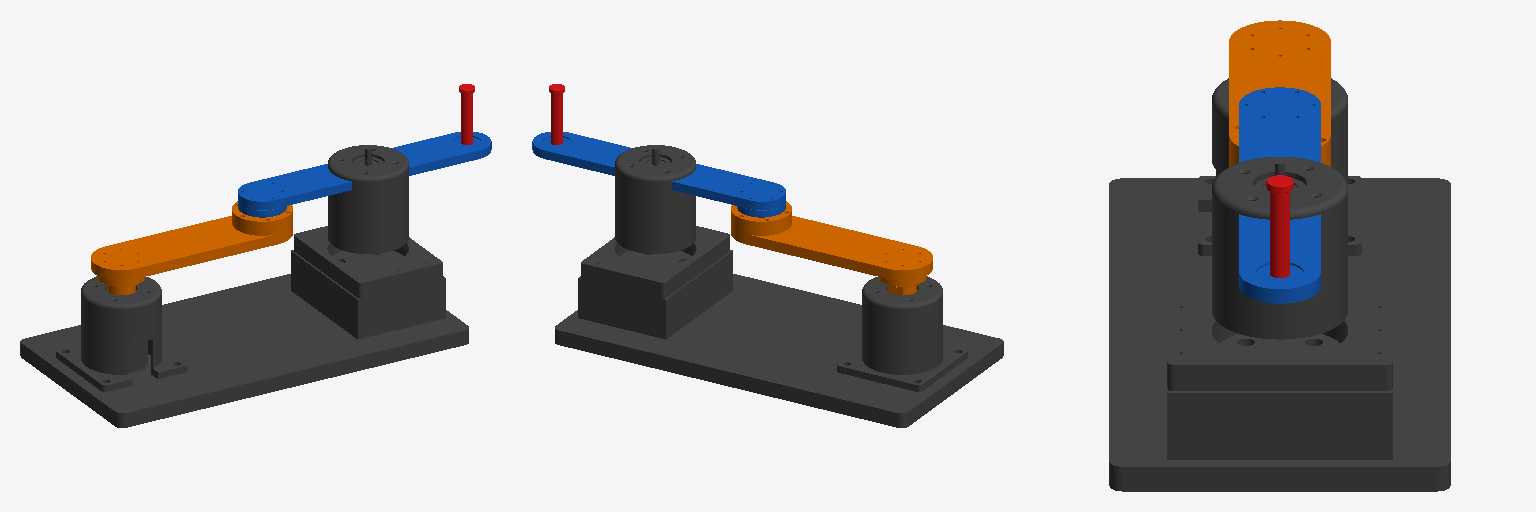
URDF robot description (arm):
<?xml version="1.0" ?>
<!-- =================================================================================== -->
<!-- |    This document was autogenerated by xacro from arm.urdf.xacro                 | -->
<!-- |    EDITING THIS FILE BY HAND IS NOT RECOMMENDED                                 | -->
<!-- =================================================================================== -->
<robot name="arm">
  <link name="base_link">
    <visual>
      <origin rpy="0 0 0" xyz="0 0 0"/>
      <geometry>
        <mesh filename="package://arm_hardware_interface/meshes/visual/base_assembly.stl" scale="0.001 0.001 0.001"/>
      </geometry>
      <material name="dark_grey">
        <color rgba="0.3 0.3 0.3 1.0"/>
      </material>
    </visual>
    <collision>
      <origin rpy="0 0 0" xyz="0 0 0"/>
      <geometry>
        <mesh filename="package://arm_hardware_interface/meshes/visual/base_assembly.stl" scale="0.001 0.001 0.001"/>
      </geometry>
    </collision>
    <inertial>
      <mass value="1.0"/>
      <origin xyz="0 0 0"/>
      <inertia ixx="0.01" ixy="0" ixz="0" iyy="0.01" iyz="0" izz="0.01"/>
    </inertial>
  </link>
  <joint name="joint_a" type="revolute">
    <parent link="base_link"/>
    <child link="link_a"/>
    <origin rpy="0 0 0" xyz="-0.175 0 0.12915"/>
    <axis xyz="0 0 1"/>
    <limit effort="10.0" lower="-3.14" upper="3.14" velocity="3.0"/>
  </joint>
  <link name="link_a">
    <visual>
      <origin rpy="0 0 0" xyz="0 0 0"/>
      <geometry>
        <mesh filename="package://arm_hardware_interface/meshes/visual/proximal_left.stl" scale="0.001 0.001 0.001"/>
      </geometry>
      <material name="orange">
        <color rgba="0.9 0.45 0.0 1.0"/>
      </material>
    </visual>
    <collision>
      <origin rpy="0 0 0" xyz="0 0 0"/>
      <geometry>
        <mesh filename="package://arm_hardware_interface/meshes/visual/proximal_left.stl" scale="0.001 0.001 0.001"/>
      </geometry>
    </collision>
    <inertial>
      <mass value="0.1"/>
      <origin xyz="0.100 0 0"/>
      <inertia ixx="0.001" ixy="0" ixz="0" iyy="0.001" iyz="0" izz="0.001"/>
    </inertial>
  </link>
  <joint name="joint_b" type="revolute">
    <parent link="base_link"/>
    <child link="link_b"/>
    <origin rpy="0 0 0" xyz="0.175 0 0.22035"/>
    <axis xyz="0 0 1"/>
    <limit effort="10.0" lower="-3.14" upper="3.14" velocity="3.0"/>
  </joint>
  <link name="link_b">
    <visual>
      <origin rpy="0 0 0" xyz="0 0 0"/>
      <geometry>
        <mesh filename="package://arm_hardware_interface/meshes/visual/proximal_right.stl" scale="0.001 0.001 0.001"/>
      </geometry>
      <material name="orange"/>
    </visual>
    <collision>
      <origin rpy="0 0 0" xyz="0 0 0"/>
      <geometry>
        <mesh filename="package://arm_hardware_interface/meshes/visual/proximal_right.stl" scale="0.001 0.001 0.001"/>
      </geometry>
    </collision>
    <inertial>
      <mass value="0.1"/>
      <origin xyz="0.100 0 0"/>
      <inertia ixx="0.001" ixy="0" ixz="0" iyy="0.001" iyz="0" izz="0.001"/>
    </inertial>
  </link>
  <joint name="joint_distal_a" type="continuous">
    <parent link="link_a"/>
    <child link="link_distal_a"/>
    <origin rpy="0 0 0" xyz="0.200 0 0.044"/>
    <axis xyz="0 0 1"/>
  </joint>
  <link name="link_distal_a">
    <visual>
      <origin rpy="0 0 0" xyz="0 0 0"/>
      <geometry>
        <mesh filename="package://arm_hardware_interface/meshes/visual/distal_left.stl" scale="0.001 0.001 0.001"/>
      </geometry>
      <material name="blue">
        <color rgba="0.1 0.4 0.8 1.0"/>
      </material>
    </visual>
    <collision>
      <origin rpy="0 0 0" xyz="0 0 0"/>
      <geometry>
        <mesh filename="package://arm_hardware_interface/meshes/visual/distal_left.stl" scale="0.001 0.001 0.001"/>
      </geometry>
    </collision>
    <inertial>
      <mass value="0.1"/>
      <origin xyz="0.1446 0 0"/>
      <inertia ixx="0.001" ixy="0" ixz="0" iyy="0.001" iyz="0" izz="0.001"/>
    </inertial>
  </link>
  <joint name="joint_distal_b" type="continuous">
    <parent link="link_b"/>
    <child link="link_distal_b"/>
    <origin rpy="0 0 0" xyz="0.200 0 0.044"/>
    <axis xyz="0 0 1"/>
  </joint>
  <link name="link_distal_b">
    <visual>
      <origin rpy="0 0 0" xyz="0 0 0"/>
      <geometry>
        <mesh filename="package://arm_hardware_interface/meshes/visual/distal_right.stl" scale="0.001 0.001 0.001"/>
      </geometry>
      <material name="blue"/>
    </visual>
    <collision>
      <origin rpy="0 0 0" xyz="0 0 0"/>
      <geometry>
        <mesh filename="package://arm_hardware_interface/meshes/visual/distal_right.stl" scale="0.001 0.001 0.001"/>
      </geometry>
    </collision>
    <inertial>
      <mass value="0.1"/>
      <origin xyz="0.1446 0 0"/>
      <inertia ixx="0.001" ixy="0" ixz="0" iyy="0.001" iyz="0" izz="0.001"/>
    </inertial>
  </link>
  <joint name="joint_ee" type="continuous">
    <parent link="link_distal_a"/>
    <child link="end_effector"/>
    <origin rpy="0 0 0" xyz="0.290 0 0.022"/>
    <axis xyz="0 0 1"/>
  </joint>
  <link name="end_effector">
    <visual>
      <origin rpy="0 0 0" xyz="0 0 0"/>
      <geometry>
        <mesh filename="package://arm_hardware_interface/meshes/visual/end_effector.stl" scale="0.001 0.001 0.001"/>
      </geometry>
      <material name="red">
        <color rgba="0.9 0.1 0.1 1.0"/>
      </material>
    </visual>
    <collision>
      <origin rpy="0 0 0" xyz="0 0 0"/>
      <geometry>
        <mesh filename="package://arm_hardware_interface/meshes/visual/end_effector.stl" scale="0.001 0.001 0.001"/>
      </geometry>
    </collision>
    <inertial>
      <mass value="0.05"/>
      <origin xyz="0 0 0"/>
      <inertia ixx="0.0001" ixy="0" ixz="0" iyy="0.0001" iyz="0" izz="0.0001"/>
    </inertial>
  </link>
  <ros2_control name="ArmControl" type="system">
    <hardware>
      <!--<plugin>arm_hardware_interface::ArmHardwareInterface</plugin>
      <param name="serial_port">/dev/ttyUSB0</param>-->
      <plugin>mock_components/GenericSystem</plugin>
    </hardware>
    <joint name="joint_a">
      <command_interface name="position"/>
      <state_interface name="position"/>
    </joint>
    <joint name="joint_b">
      <command_interface name="position"/>
      <state_interface name="position"/>
    </joint>
  </ros2_control>
</robot>

--- Facts derived from the render (not from the file) ---
Views: 3 orthographic renders of the robot side by side, from view 1: azimuth 30°, elevation 25°; view 2: azimuth 150°, elevation 25°; view 3: azimuth 270°, elevation 25°.
Robot: arm — 6 links, 5 joints (2 revolute, 3 continuous); root link base_link; default pose: every joint at zero.
Links seen in each view (by area): view 1: base_link, link_a, link_distal_a, end_effector; view 2: base_link, link_a, link_distal_a, end_effector; view 3: base_link, link_distal_a, link_a, end_effector.
Boxes of the visible links, left/top/right/bottom form: base_link: left=20, top=145, right=468, bottom=427; link_a: left=91, top=201, right=292, bottom=294; link_distal_a: left=238, top=132, right=491, bottom=217; end_effector: left=459, top=84, right=474, bottom=144; base_link: left=555, top=145, right=1003, bottom=427; link_a: left=731, top=201, right=932, bottom=294; link_distal_a: left=532, top=132, right=785, bottom=217; end_effector: left=549, top=84, right=564, bottom=144; base_link: left=1109, top=78, right=1450, bottom=491; link_distal_a: left=1239, top=87, right=1320, bottom=303; link_a: left=1229, top=20, right=1330, bottom=166; end_effector: left=1266, top=175, right=1293, bottom=277.
Size in the robot's own frame: 0.595 by 0.25 by 0.2817 metres.
Meshes: 6 distinct files referenced, 4 mesh visuals loaded (4 binary STL); not drawn: 2 (reference not matched to a file when rendering).
